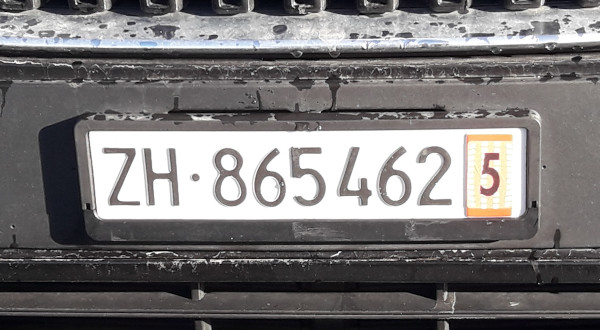license_plate: (86, 128, 531, 222)
